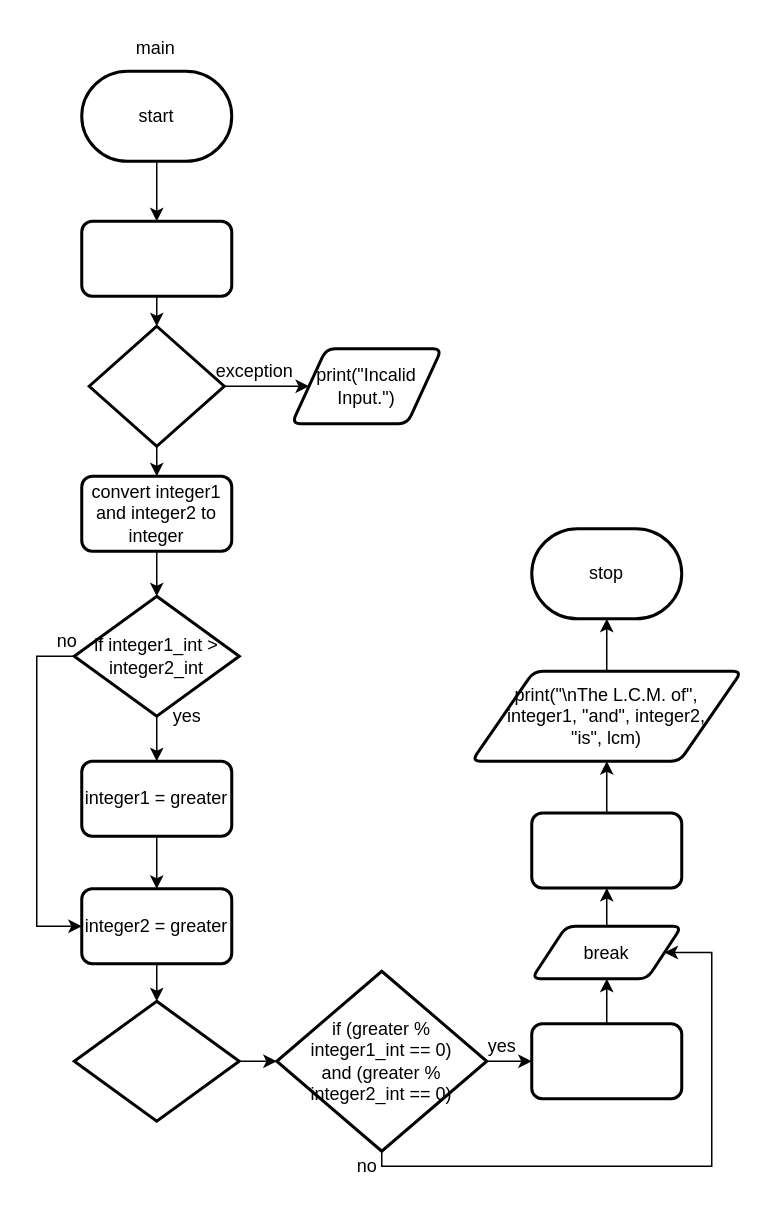
Image size: 770x1214. Some labels were removed from this diagram. Here are the shapes that lost their labels. From the top down, the centre of each, then its label:
point 156,258: get user input
point 156,385: try
point 606,850: greater += 1
point 156,1060: while true
point 606,1061: lcm = greater
